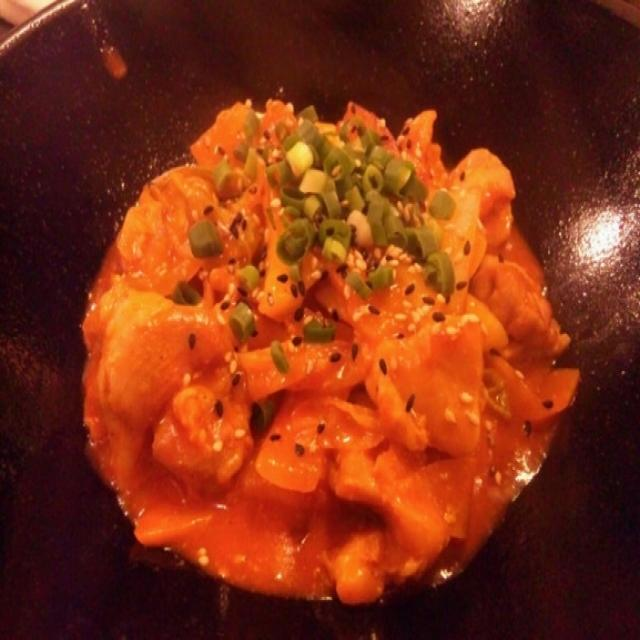熟制海鲜: (11, 184, 505, 569)
